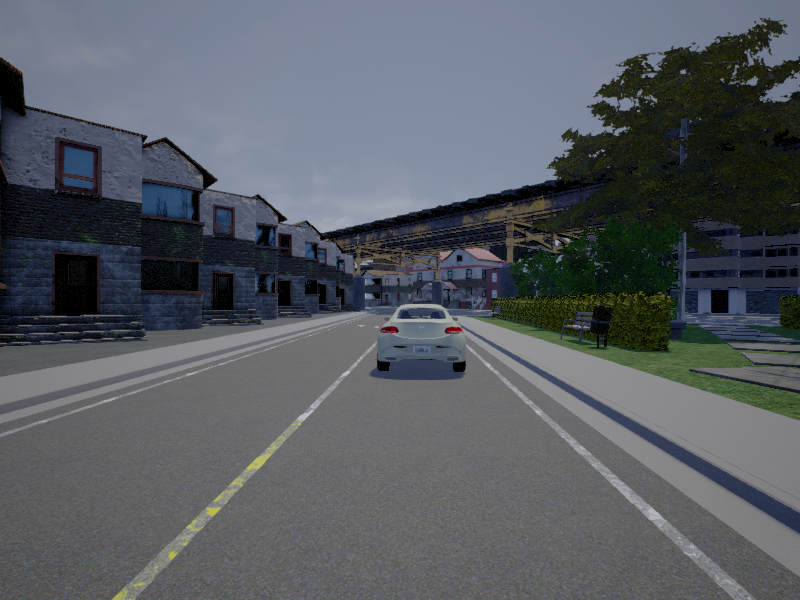Benign: (379, 299, 467, 373)
